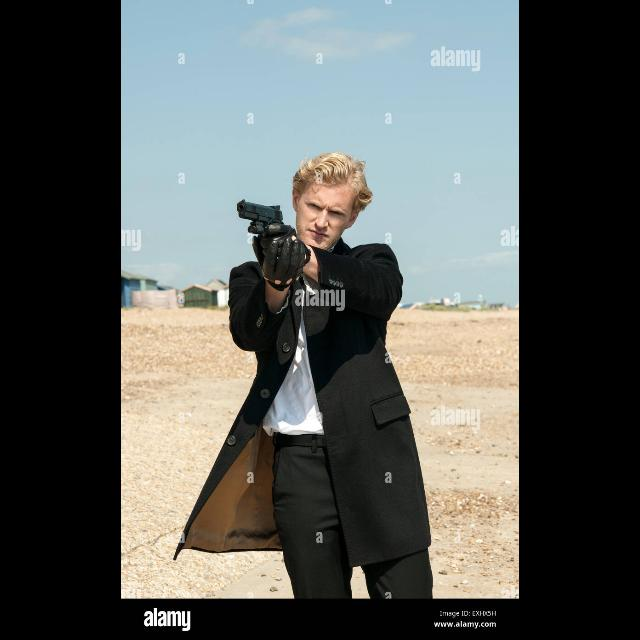handgun: (236, 197, 286, 240)
